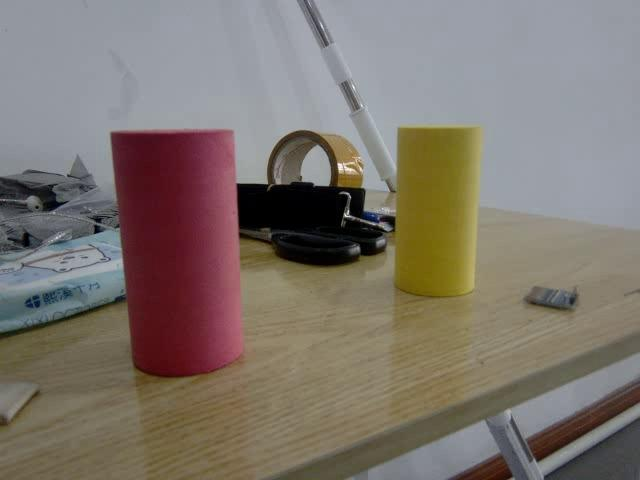red_cylinder: (113, 130, 240, 372)
yellow_cylinder: (395, 125, 480, 294)
